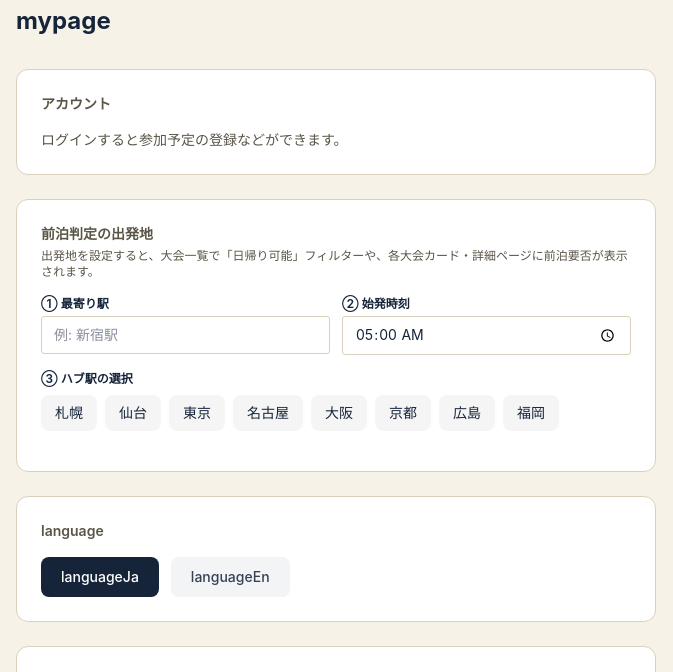
Test: MyPage - ハブ選択後の編集 › クリアボタンで設定が削除され、「ハブ駅までの移動時間＋余裕時間」欄も消える
The width and height of the screenshot is (673, 672).
Click the button "東京".
click(197, 413)  # box [169,395,225,431]
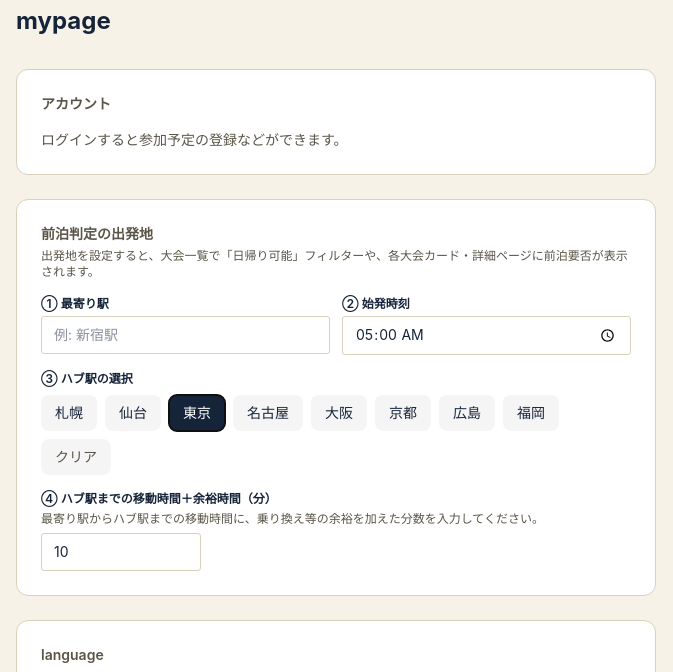
Click the button "クリア".
click(76, 457)  # box [41,439,111,475]
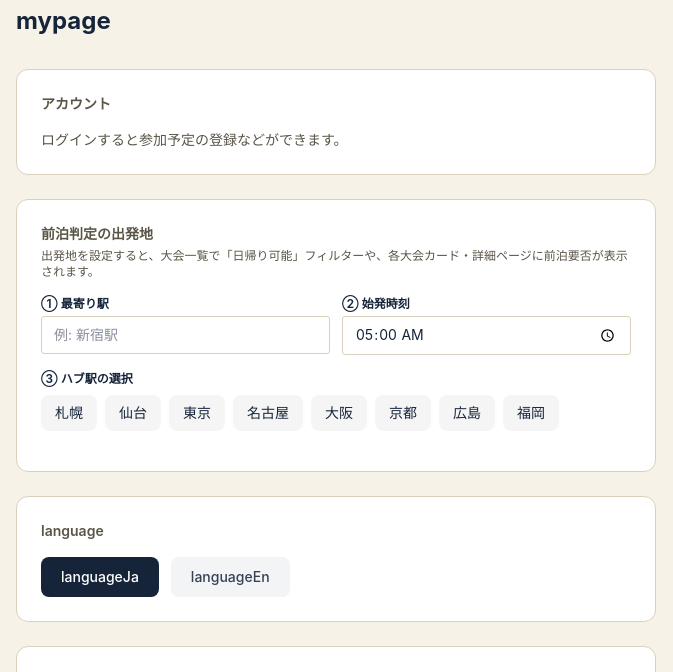
expect the label labelled "ハブ駅までの移動時間" is gone: met
